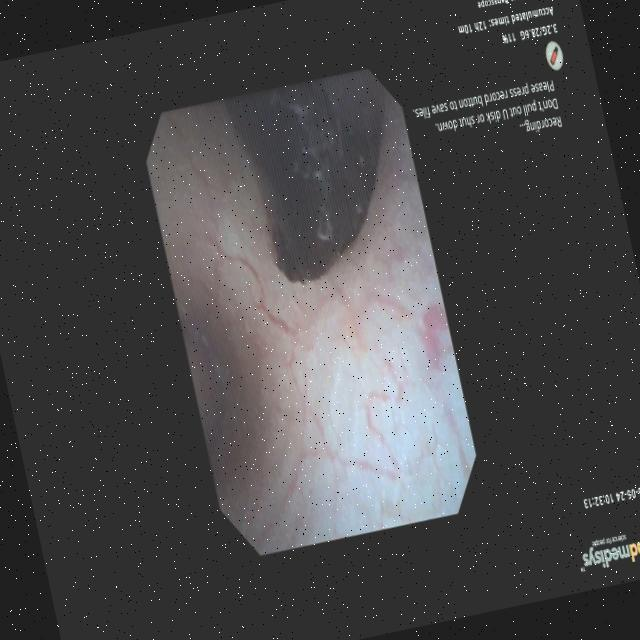stone-new: (228, 74, 381, 283)
